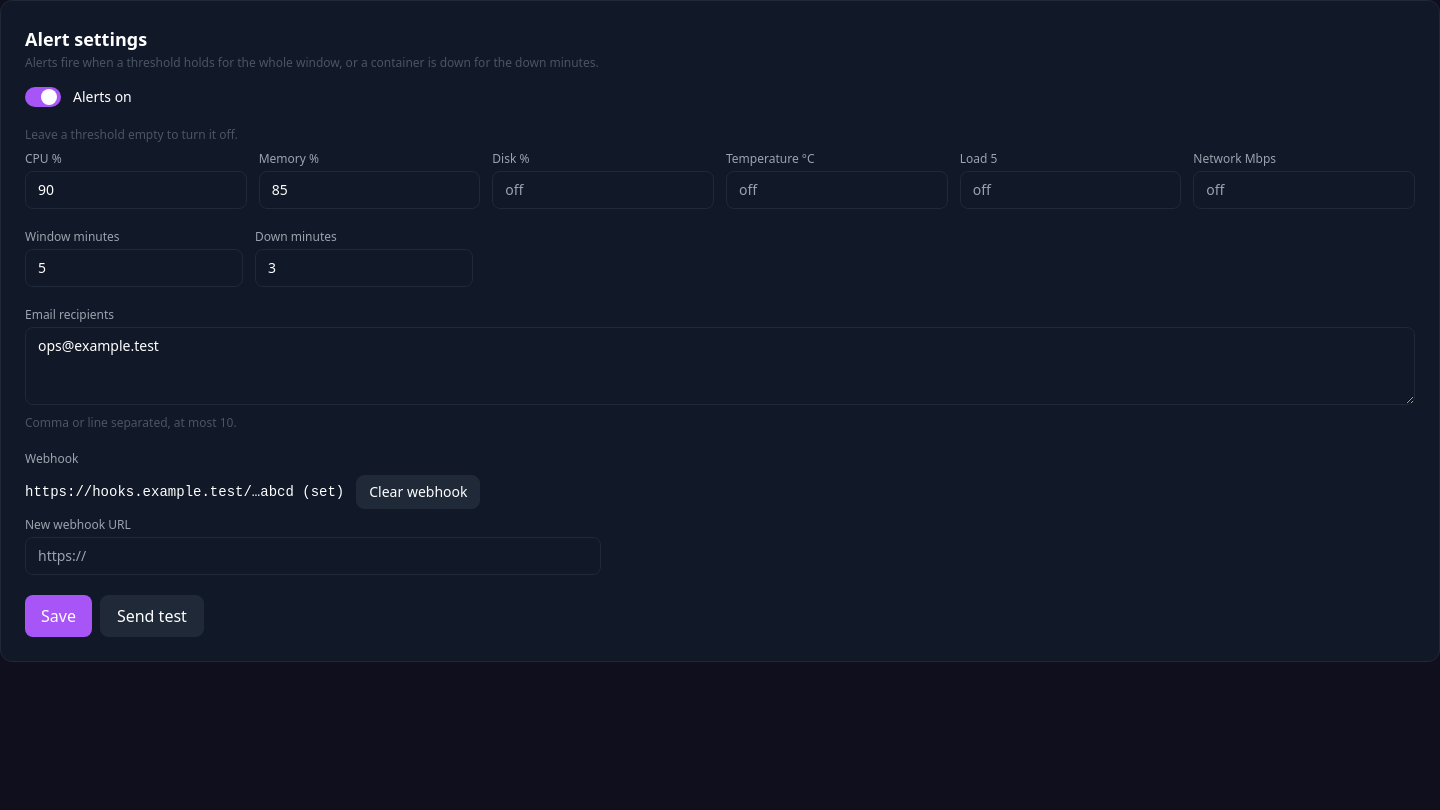
Scenario: AlertSettingsCard › the server's refusal is shown
This screenshot has width=1440, height=810.
Type "http://plain" into the field labelled "New webhook URL".
click(313, 556); type("http://plain")  # box [25,537,601,575]
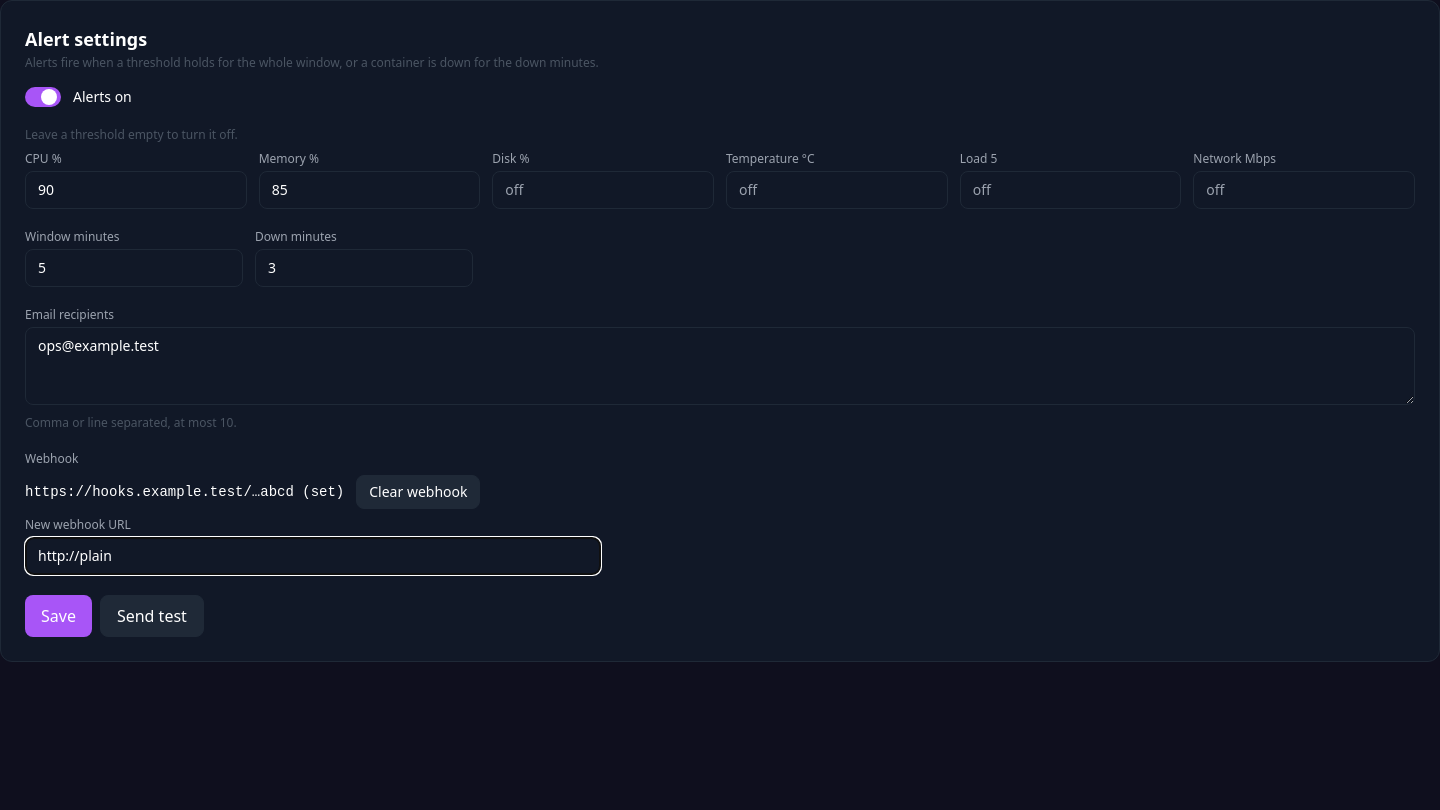
Click the button "Save".
click(58, 616)  # box [25,595,92,637]
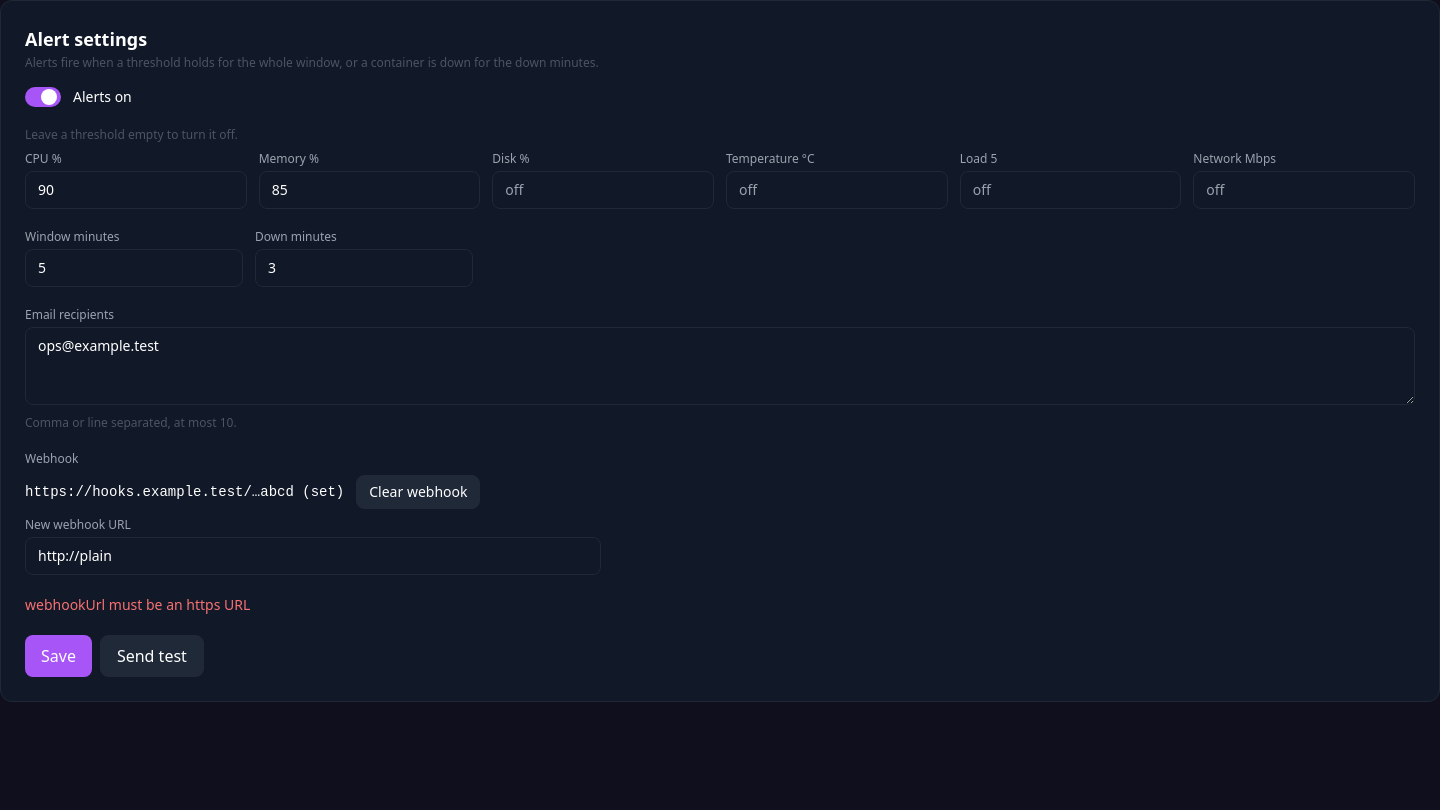
Now the message reads "webhookUrl must be an https URL", box [25,595,250,614]
